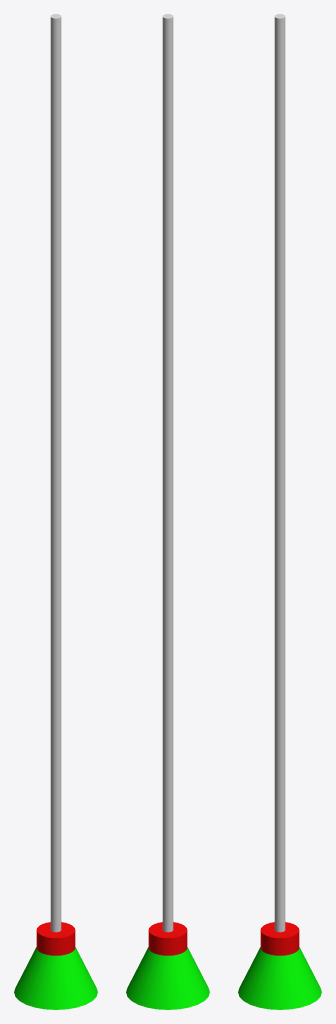
File: LongCelingLamp.fbx
The picture shows the model from 3 angles, left to right: view 1: azimuth 90°, elevation 25°; view 2: azimuth 150°, elevation 25°; view 3: azimuth 270°, elevation 25°; orthographic projection.
Visible parts, largest first — view 1: Cylinder, Cylinder.001; view 2: Cylinder, Cylinder.001; view 3: Cylinder, Cylinder.001.
Part boxes in pixels (x1,y1,x2,y2): Cylinder: (50,14,61,932); Cylinder.001: (14,922,97,1009); Cylinder: (162,14,173,932); Cylinder.001: (126,922,209,1009); Cylinder: (274,14,285,932); Cylinder.001: (238,922,321,1009).
Bounding box in the file's own units: 43.18 × 43.18 × 554.
